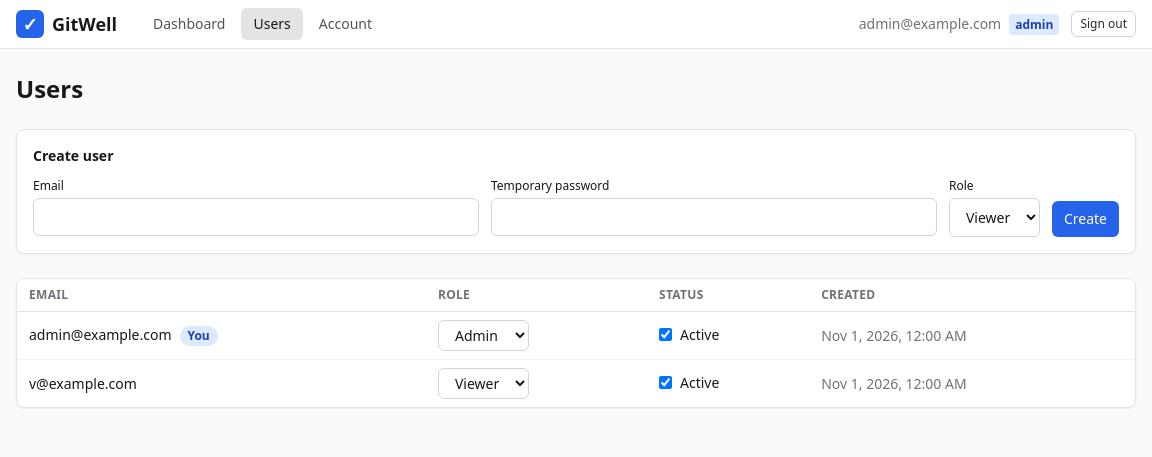
Test: users page › shows a duplicate-email error from the server
Step 1. Type "v@example.com" into the field labelled "Email" → [256, 217], box [33,198,479,236]
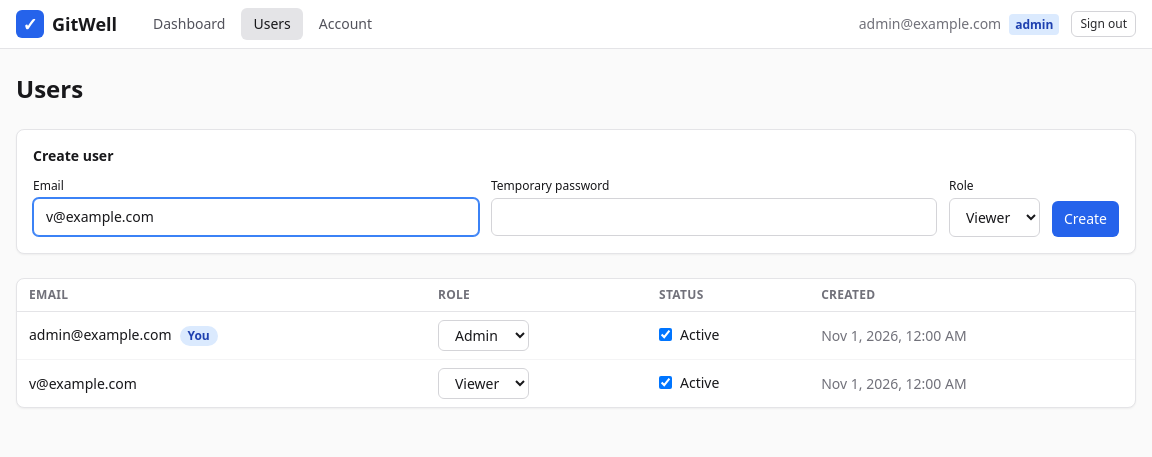
Step 2. Type "test-long-enough-1" into the password field labelled "Temporary password" → [714, 217], box [491,198,937,236]
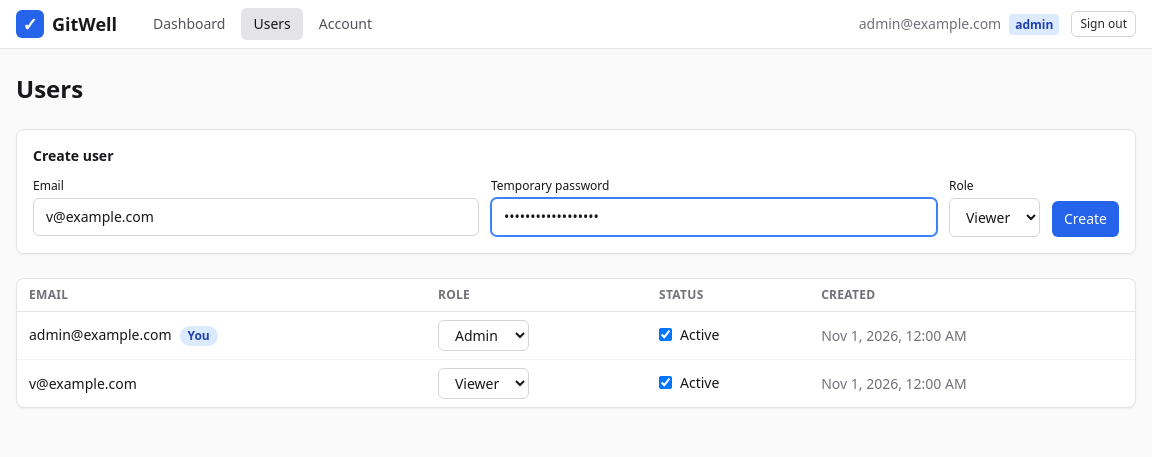
Step 3. Click the button "Create" → [1085, 219], box [1052,201,1119,237]
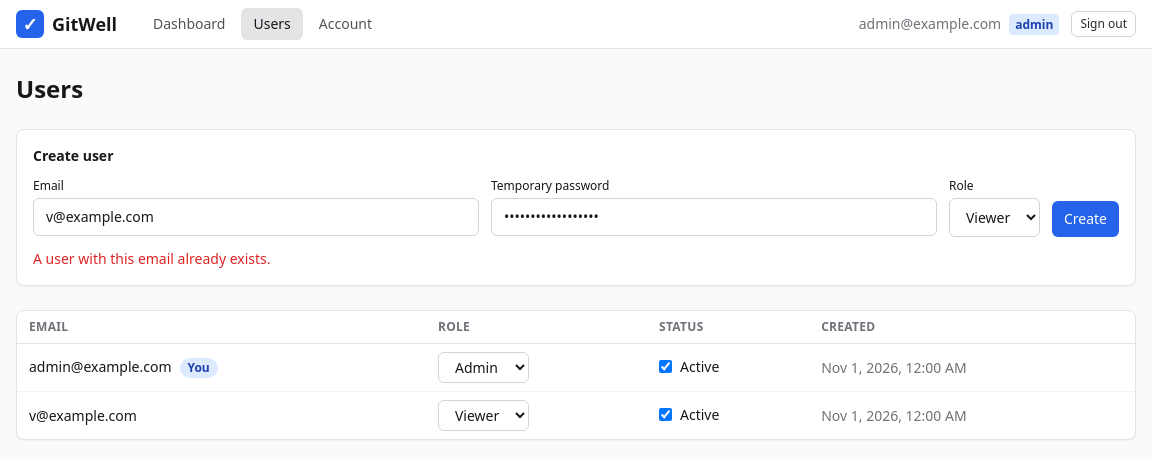
Check: the text "A user with this email already exists." is shown, box [33,249,271,268]
